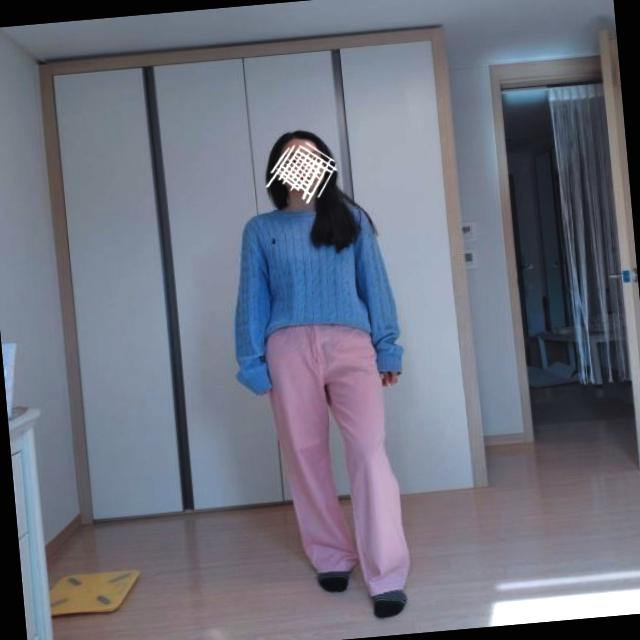cottonpants: (265, 315, 415, 603)
sweater: (222, 199, 407, 399)
